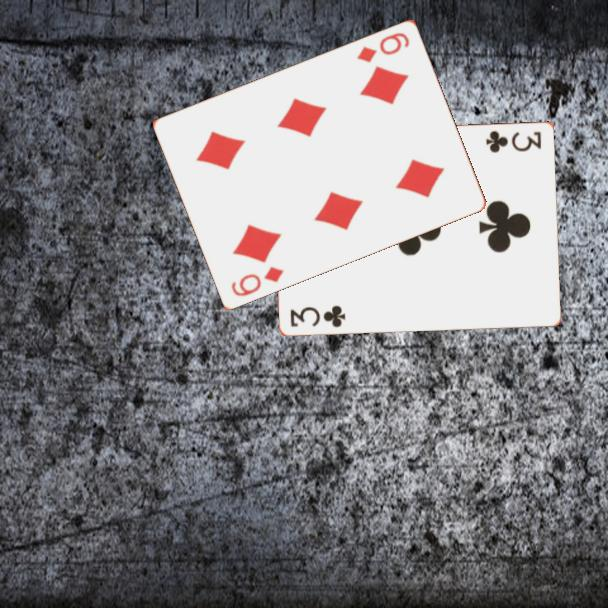c03: (483, 127, 544, 155), (287, 302, 348, 330)
d06: (354, 28, 413, 65), (228, 262, 287, 299)
